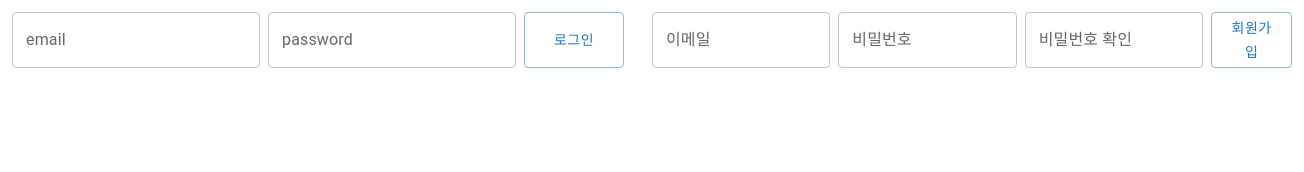
it: login test › 로그인 테스트
The width and height of the screenshot is (1304, 172).
Type "kim@naver.com" into the field with placeholder "이메일을 입력해주세요." at (136, 40), box [12,12,260,68]
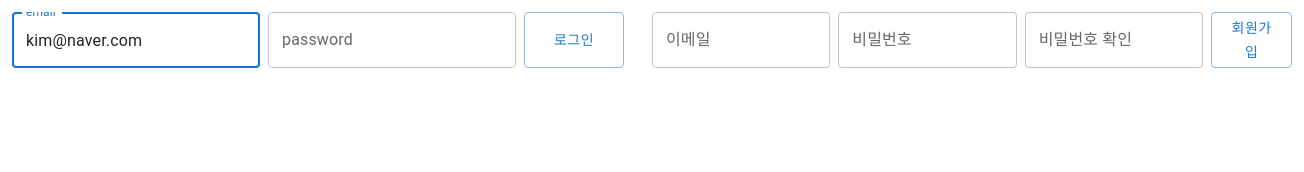
Type "kim" into the password field with placeholder "비밀번호를 입력해주세요." at (392, 40), box [268,12,516,68]
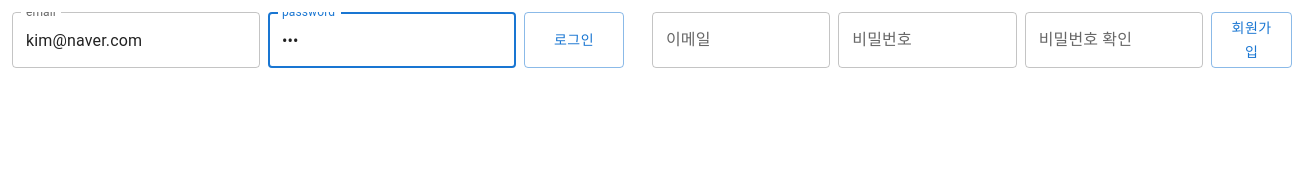
Click the button "로그인" at (574, 40), box [524,12,624,68]
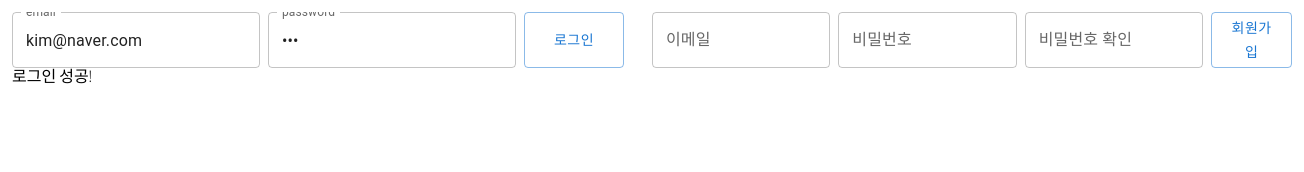
Now the text "로그인 성공!" is shown, box [12,65,92,87]
